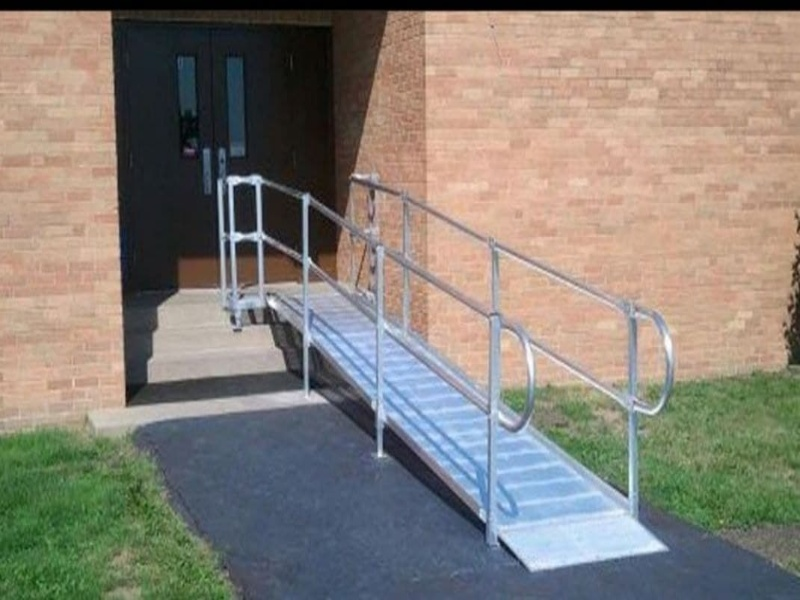slope: (212, 226, 686, 571)
